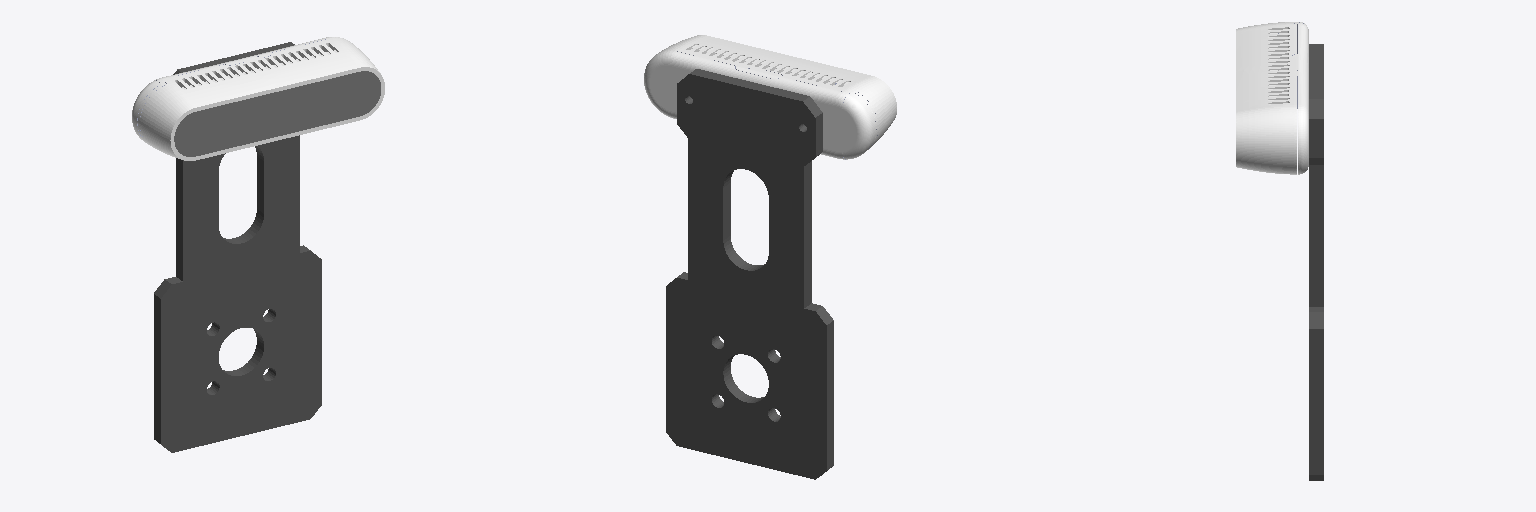
The model's file is Assembly_Square.obj.
3 views of the same model, side by side, from view 1: azimuth 30°, elevation 25°; view 2: azimuth 150°, elevation 25°; view 3: azimuth 270°, elevation 25° (orthographic).
Parts seen in each view (by area): view 1: Solid1, Solid11, Solid12; view 2: Solid1, Solid11, Solid1:1; view 3: Solid11, Solid1.
Part boxes in pixels (bbox=[...]): Solid1: bbox=[154, 42, 321, 452]; Solid11: bbox=[137, 37, 384, 160]; Solid12: bbox=[174, 71, 380, 156]; Solid1: bbox=[666, 69, 833, 479]; Solid11: bbox=[644, 35, 896, 159]; Solid1:1: bbox=[843, 92, 875, 159]; Solid11: bbox=[1236, 22, 1308, 174]; Solid1: bbox=[1309, 44, 1323, 480].
Size of the model in its own units: 90 by 144 by 30.